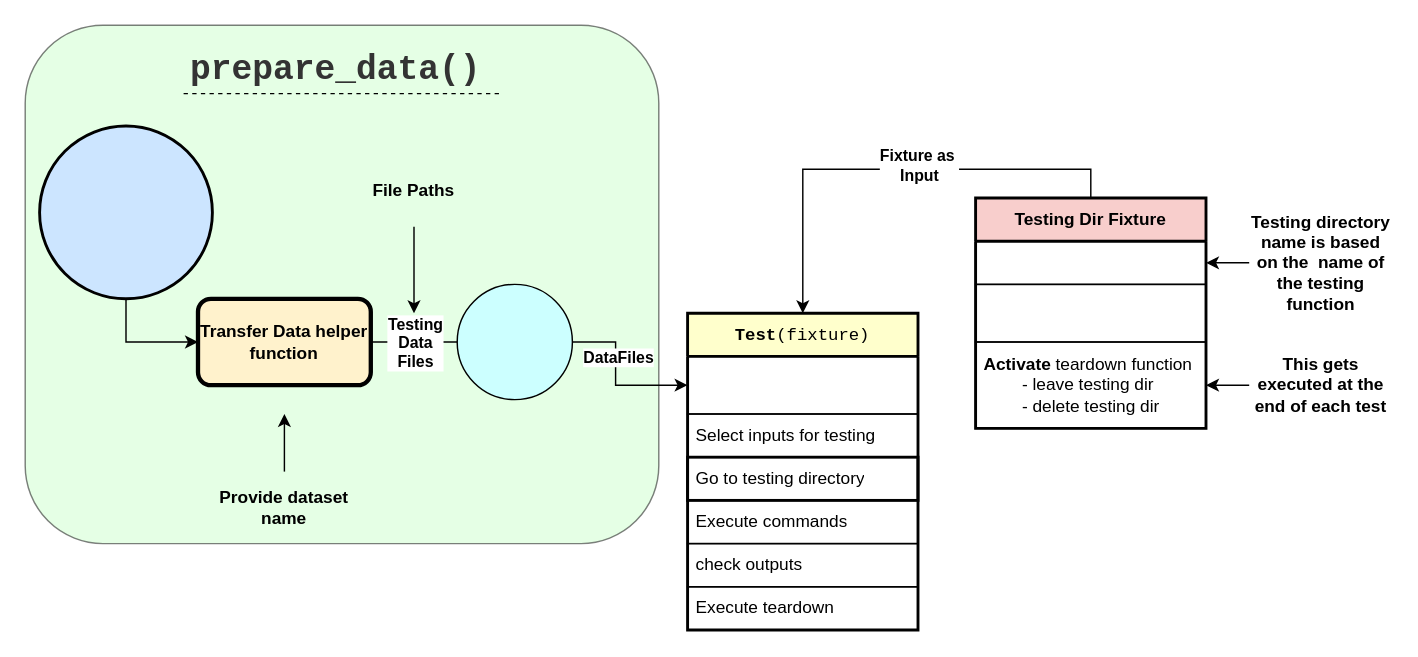
Image size: 1418x657. Some labels were removed from this diagram. Here are the shapes that lost their labels. From the top down, the box of each, then its label:
(37, 124, 213, 300): test data directroy
(974, 240, 1206, 284): Create testing directory
(974, 283, 1206, 342): Return path to testing dir
(456, 283, 572, 400): convert to DataFiles dataclass
(686, 355, 918, 414): Move data selected data into testing directory
